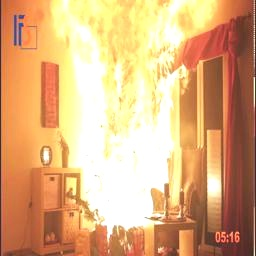fire: (42, 0, 208, 230)
